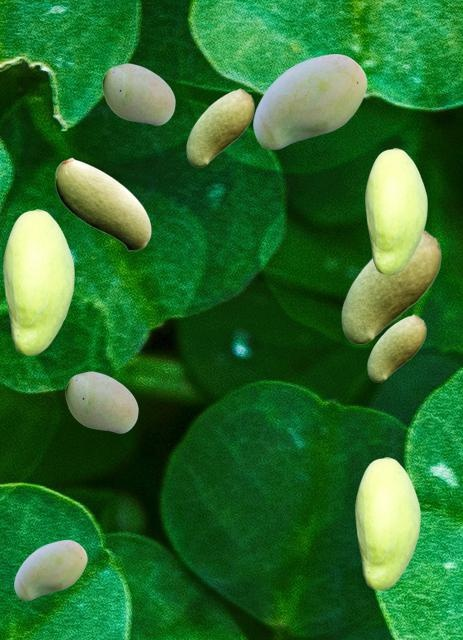green_mango: (341, 230, 440, 343), (253, 54, 366, 148), (3, 209, 73, 354), (55, 157, 150, 250), (355, 457, 419, 589), (365, 148, 426, 274), (186, 88, 253, 166), (102, 63, 174, 124), (65, 371, 137, 432), (14, 540, 86, 599), (367, 314, 425, 381)
